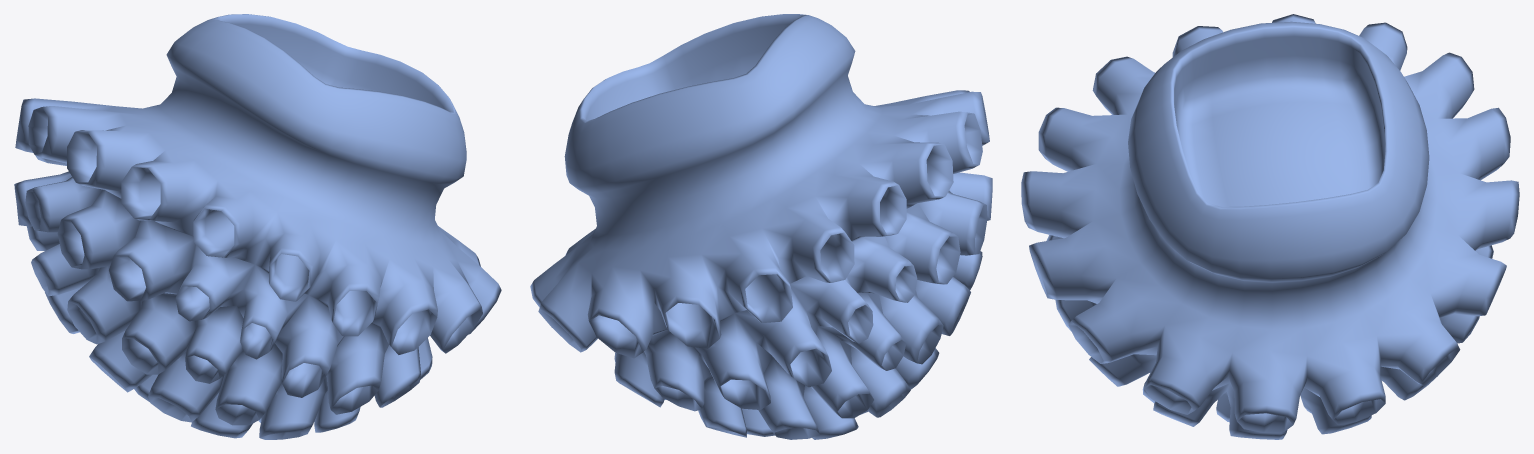
Rendered from seacreature (1).glb.
The picture shows the model from 3 angles, left to right: view 1: azimuth 30°, elevation 25°; view 2: azimuth 150°, elevation 25°; view 3: azimuth 270°, elevation 25°; orthographic projection.
Visible parts, largest first — view 1: Cube_0; view 2: Cube_0; view 3: Cube_0.
Part boxes in pixels (x1,y1,x2,y2): Cube_0: (14, 14, 501, 439); Cube_0: (530, 14, 992, 439); Cube_0: (1021, 14, 1519, 439).
Bounding box in the file's own units: 2.18 × 2.01 × 2.36.
